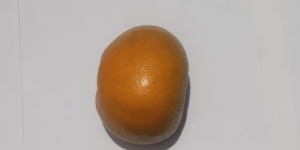BAD: (95, 22, 193, 146)
